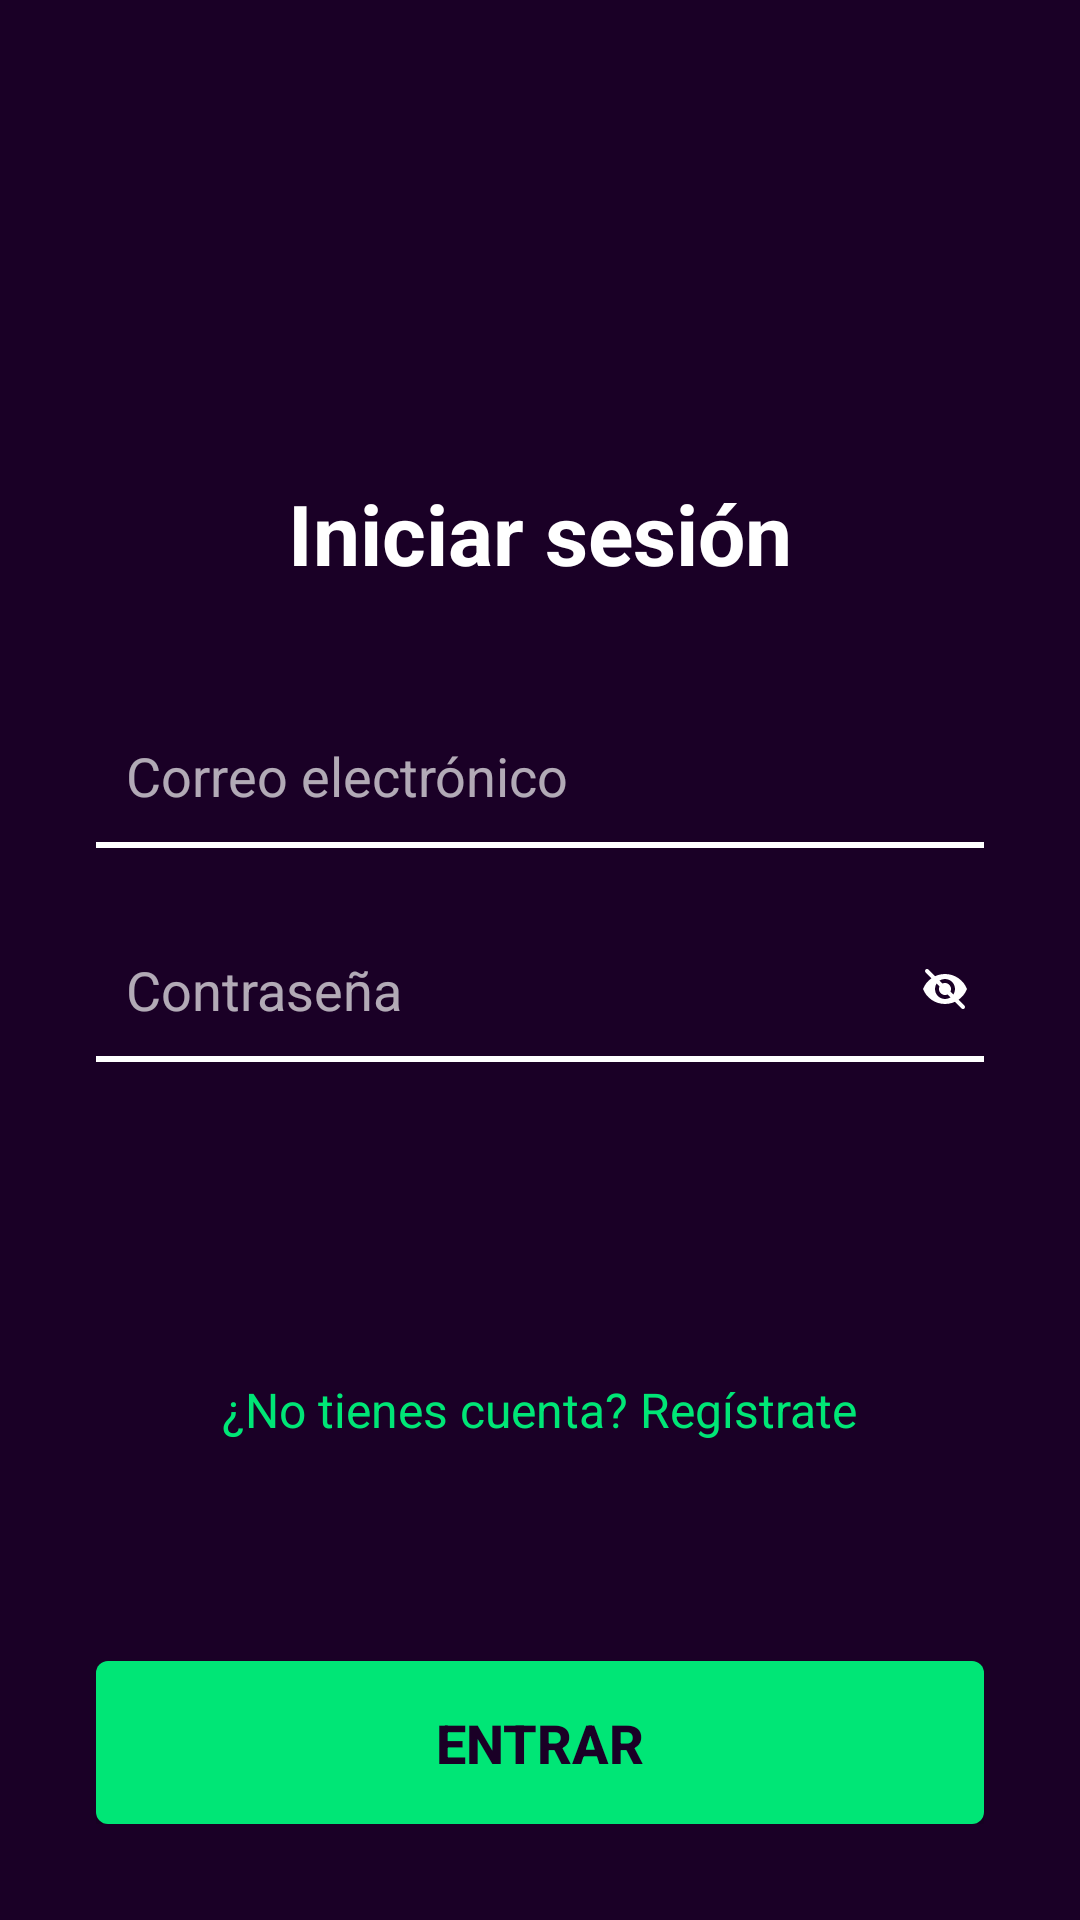

Icons on this 1080×1920 Android screen, each with its box as (x1, y1, x2, y2):
eye closed: (923, 969, 967, 1009)
